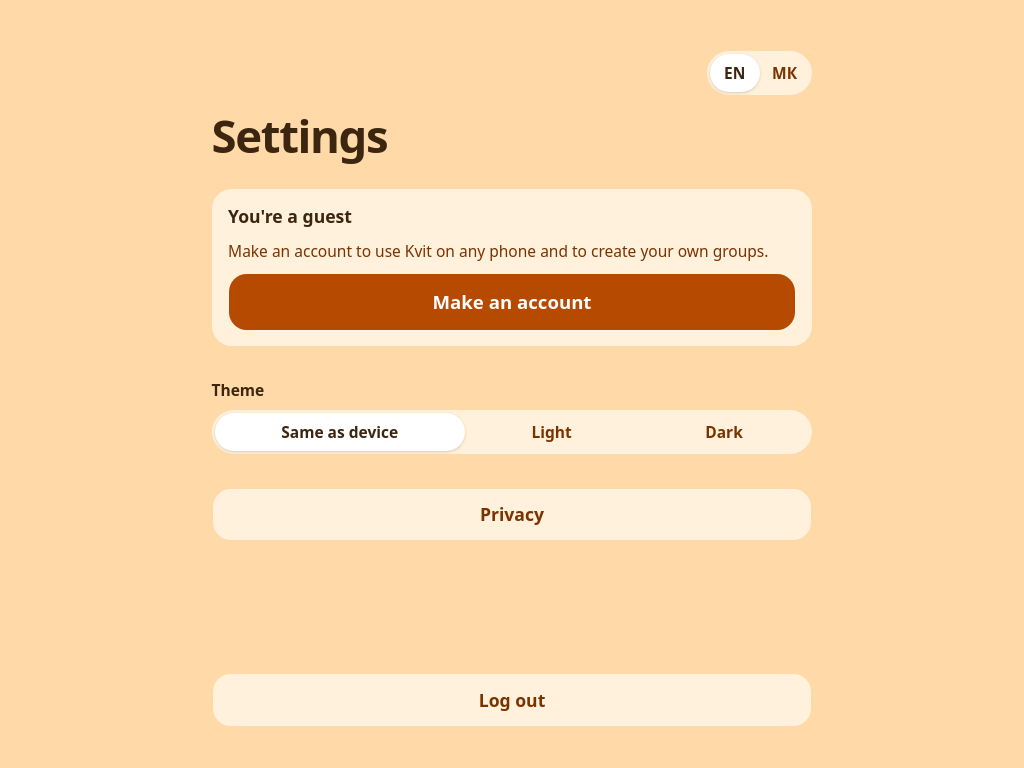
it: SettingsScreen for a guest › Log out › closes the sheet with Cancel and stays signed in, with no request
This screenshot has width=1024, height=768.
What coordinates should you click on to do the following:
click the button "Log out"
I would click on:
 (512, 700)
Its box is [212, 673, 812, 727].
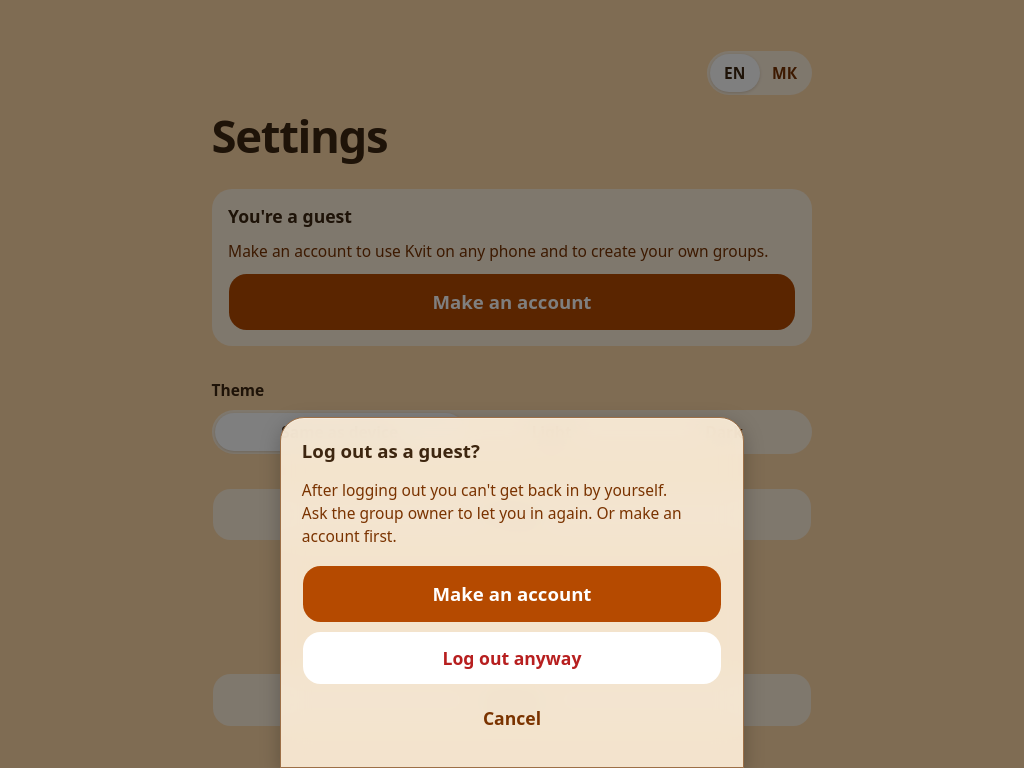
What coordinates should you click on to do the following:
click the button "Cancel"
I would click on:
 (512, 718)
Its box is [302, 693, 722, 743].
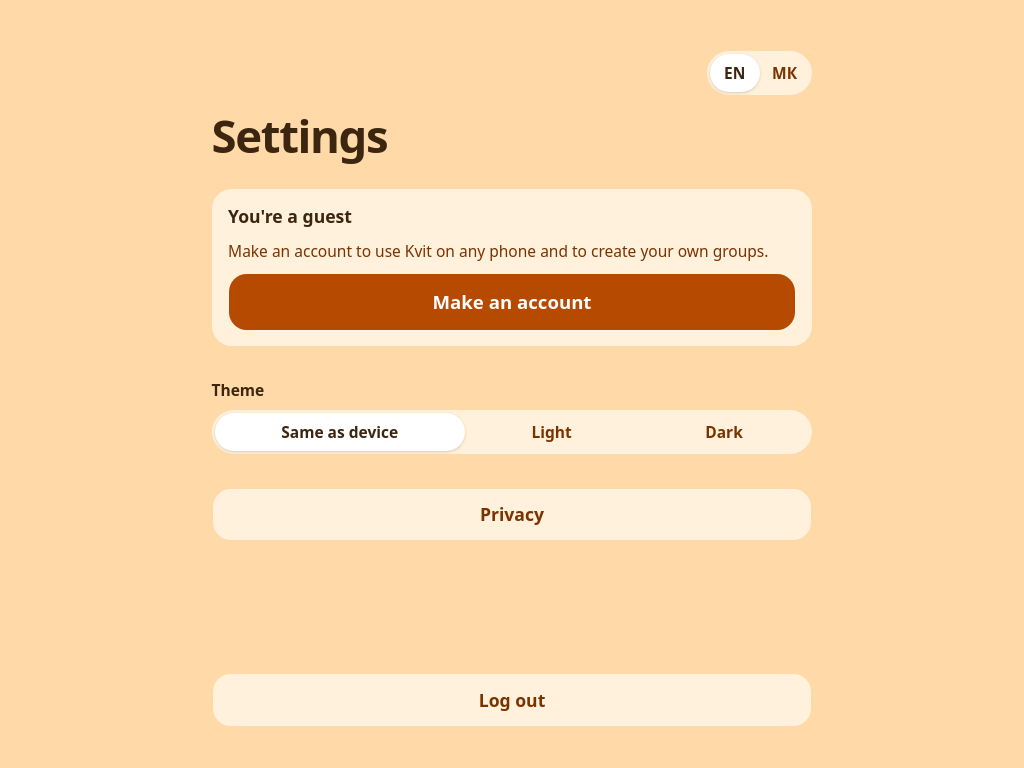
Result: the dialog is gone
